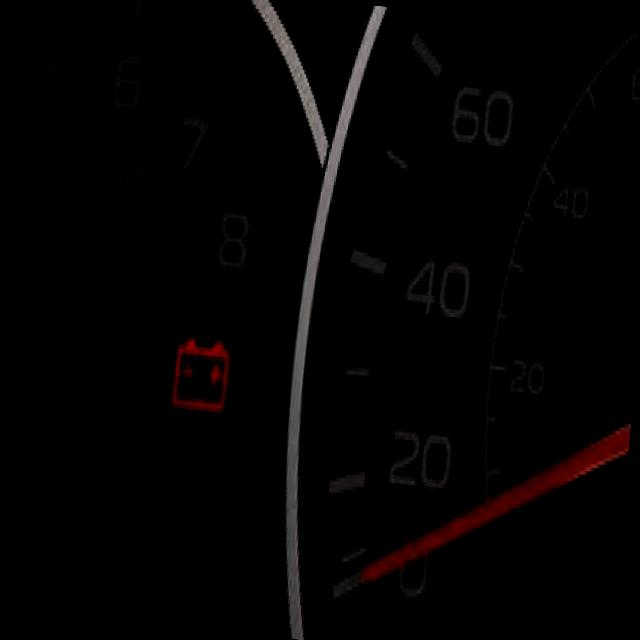kontrolka: (156, 318, 242, 438)
